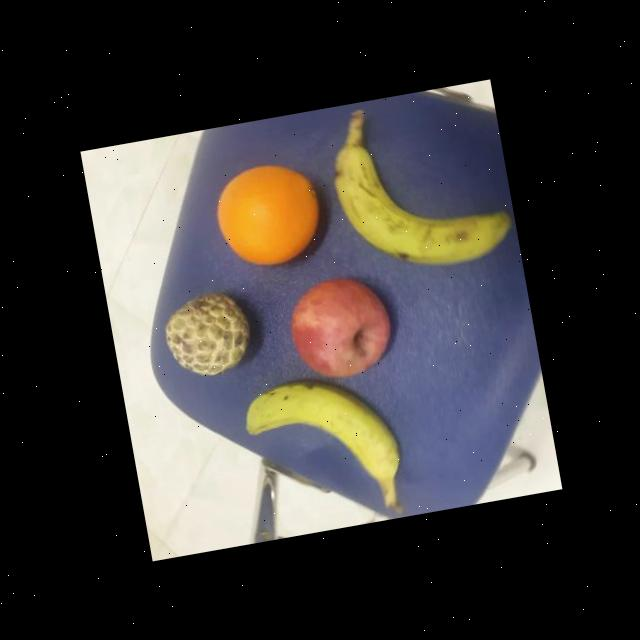Sakya fruit: (158, 283, 258, 382)
apple: (280, 270, 398, 387)
banana: (324, 114, 516, 284), (234, 362, 406, 500)
orange: (206, 152, 328, 276)
